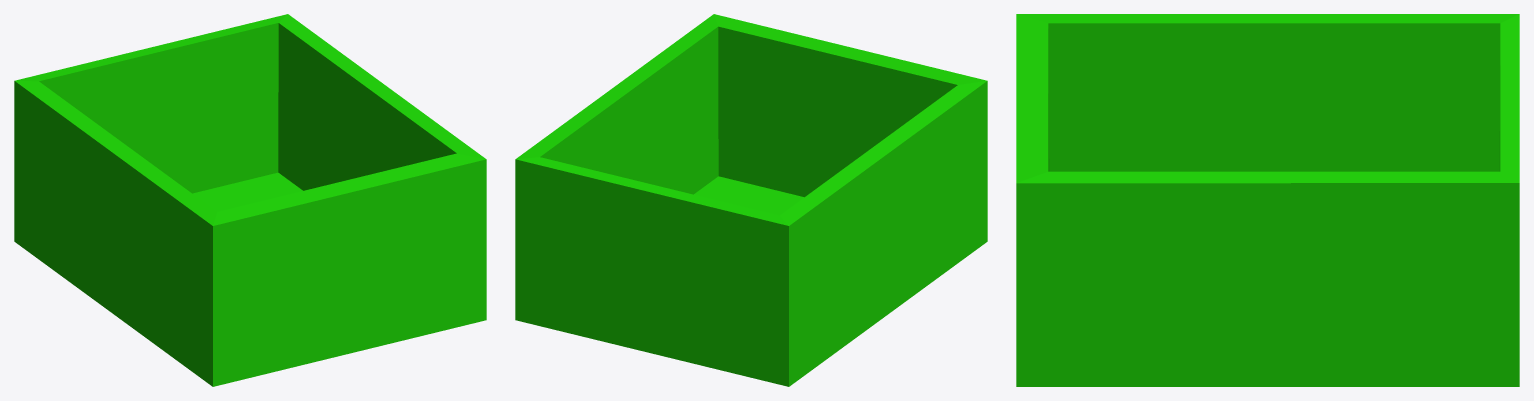
The model's file is SM_Shelf_07_Collider.fbx.
The picture shows the model from 3 angles, left to right: view 1: azimuth 30°, elevation 25°; view 2: azimuth 150°, elevation 25°; view 3: azimuth 270°, elevation 25°; orthographic projection. The views are drawn at different scales.
Parts seen in each view (by area): view 1: SM_Shelf_07_Collider; view 2: SM_Shelf_07_Collider; view 3: SM_Shelf_07_Collider.
Part boxes in pixels (x1=…): SM_Shelf_07_Collider: x1=14, y1=14, x2=486, y2=386; SM_Shelf_07_Collider: x1=515, y1=14, x2=987, y2=386; SM_Shelf_07_Collider: x1=1016, y1=14, x2=1519, y2=386.
Bounding box in the file's own units: 74.3 × 41.96 × 93.37.
